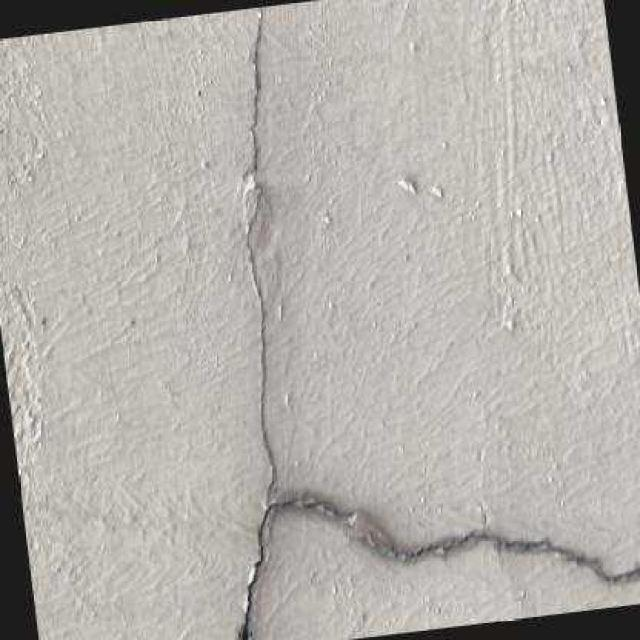D00: (234, 5, 640, 640)
